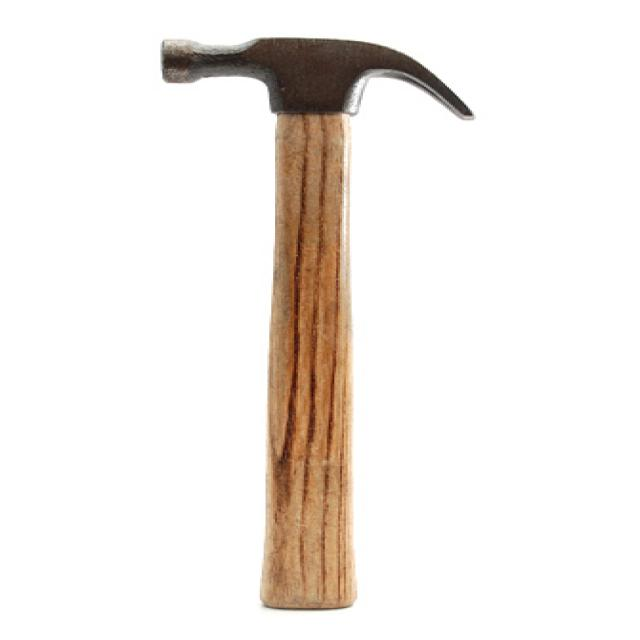hammer: (150, 24, 493, 518)
